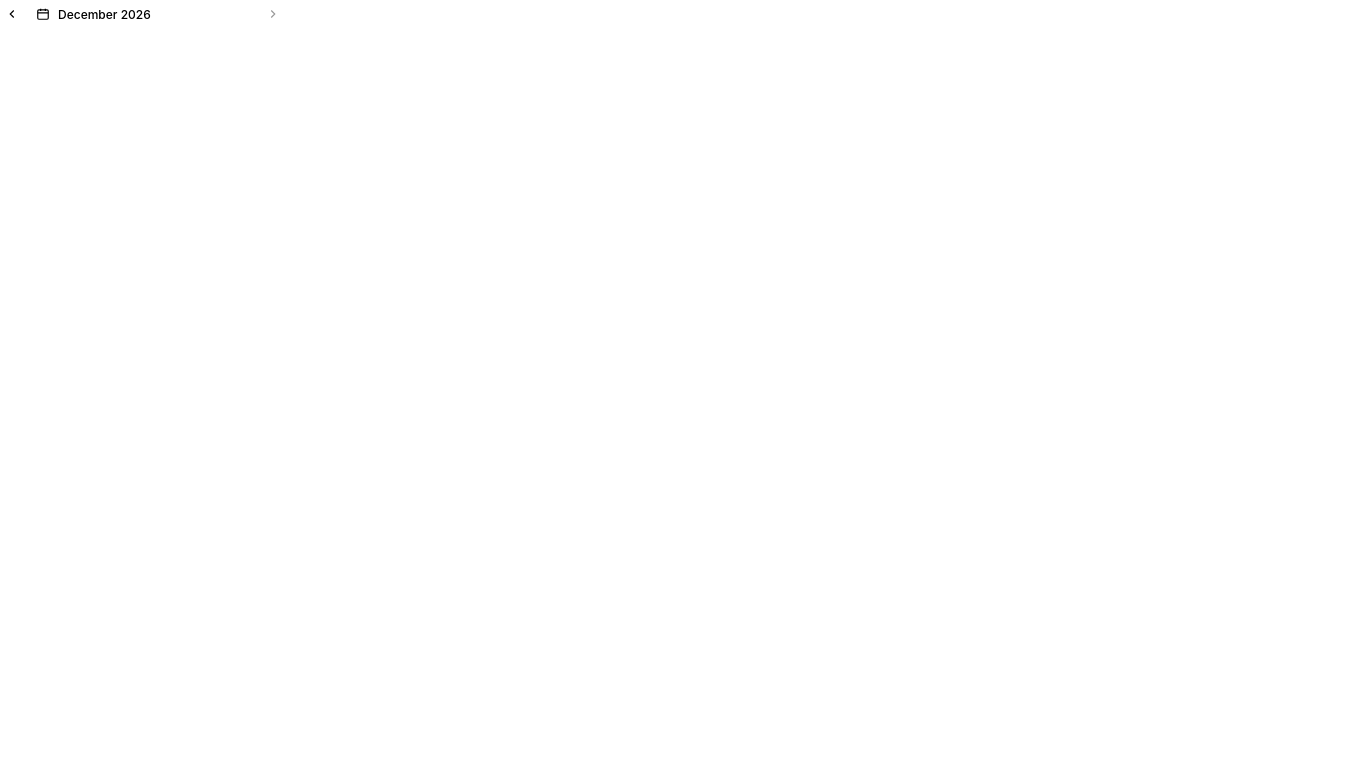
PeriodPicker: періоди проєкту › сітка вимикає місяці поза проєктом
Click the button named "⟦period.choose⟧". click: (43, 14)
box: [34, 5, 52, 23]
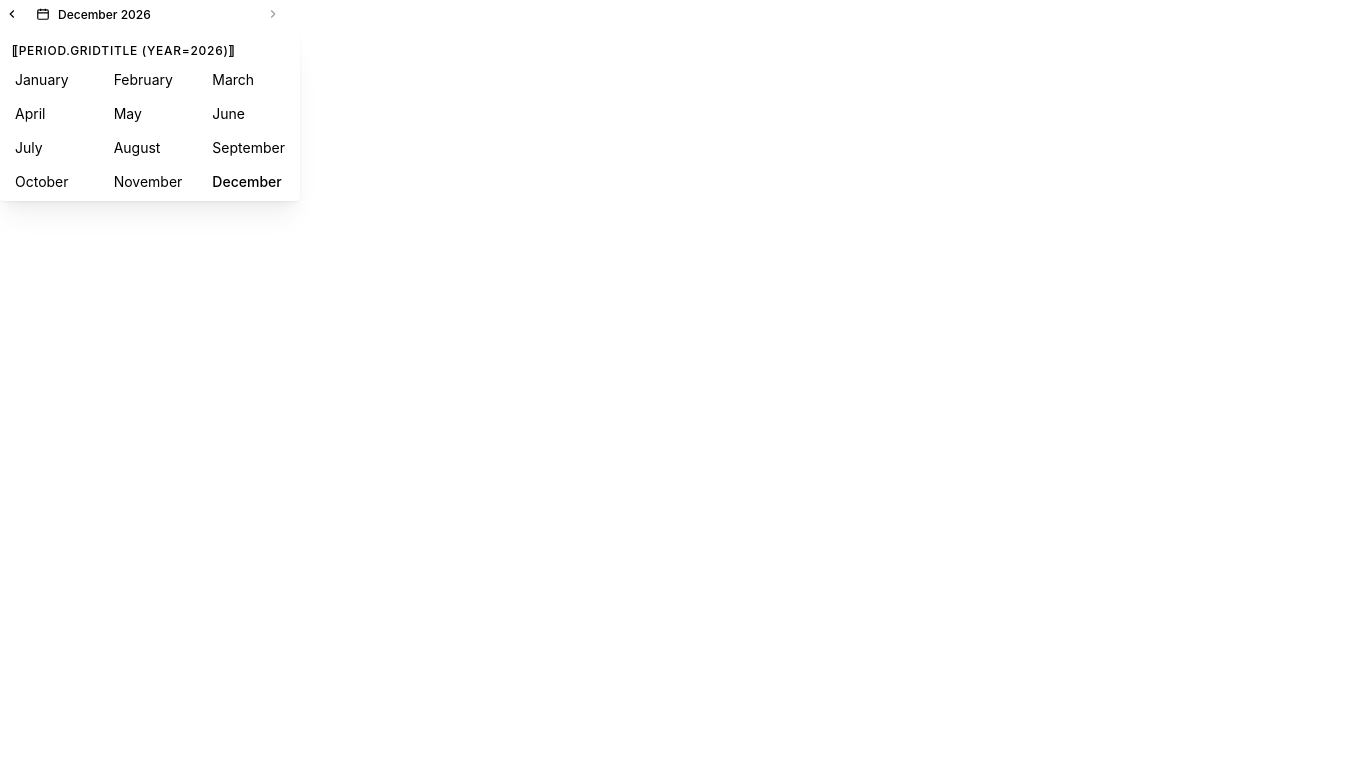
Expected: the dialog with test id "period-grid" is shown, [0, 32, 300, 201]
